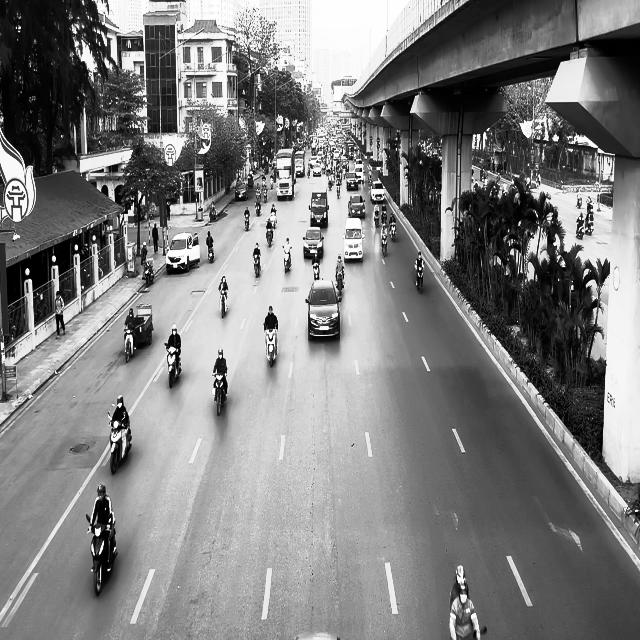bus: (276, 148, 296, 200)
car: (306, 278, 340, 340), (165, 231, 200, 274), (342, 217, 364, 262), (309, 190, 329, 228), (302, 227, 324, 258), (348, 194, 365, 218), (370, 181, 385, 203), (235, 182, 248, 200), (346, 171, 358, 190), (313, 163, 321, 176)
motorbike: (86, 513, 118, 596), (107, 411, 132, 474), (164, 343, 182, 388), (212, 370, 228, 416), (264, 326, 278, 366), (124, 325, 135, 362), (143, 258, 154, 285), (336, 267, 344, 302), (415, 262, 424, 293), (219, 288, 228, 318), (282, 246, 292, 273), (576, 214, 584, 239), (312, 257, 320, 280), (253, 252, 260, 278), (381, 230, 388, 256), (266, 226, 273, 246), (389, 220, 396, 240), (207, 242, 214, 262), (244, 210, 250, 230), (256, 195, 262, 215), (210, 208, 217, 222), (374, 212, 379, 226)
